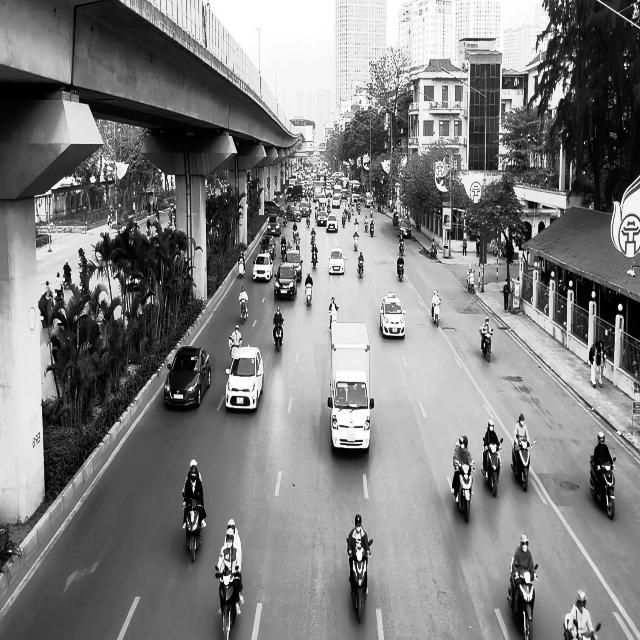car: (164, 345, 211, 409), (225, 345, 264, 412), (380, 292, 406, 339), (274, 262, 298, 300), (253, 252, 273, 282), (284, 250, 303, 281), (328, 248, 345, 274), (260, 234, 277, 260), (398, 219, 412, 238), (327, 214, 338, 232)
motorbike: (507, 560, 539, 639), (347, 537, 373, 623), (215, 566, 242, 640), (590, 455, 616, 520), (182, 494, 204, 562), (452, 459, 475, 523), (481, 437, 504, 497), (511, 438, 537, 491), (564, 614, 601, 640), (480, 327, 494, 362), (273, 318, 284, 351), (432, 300, 441, 326), (240, 301, 249, 324), (305, 282, 313, 306), (397, 258, 404, 281), (238, 258, 246, 277), (312, 244, 318, 268), (358, 255, 364, 278), (353, 235, 359, 250), (370, 220, 375, 237)
truck: (328, 320, 374, 452)
